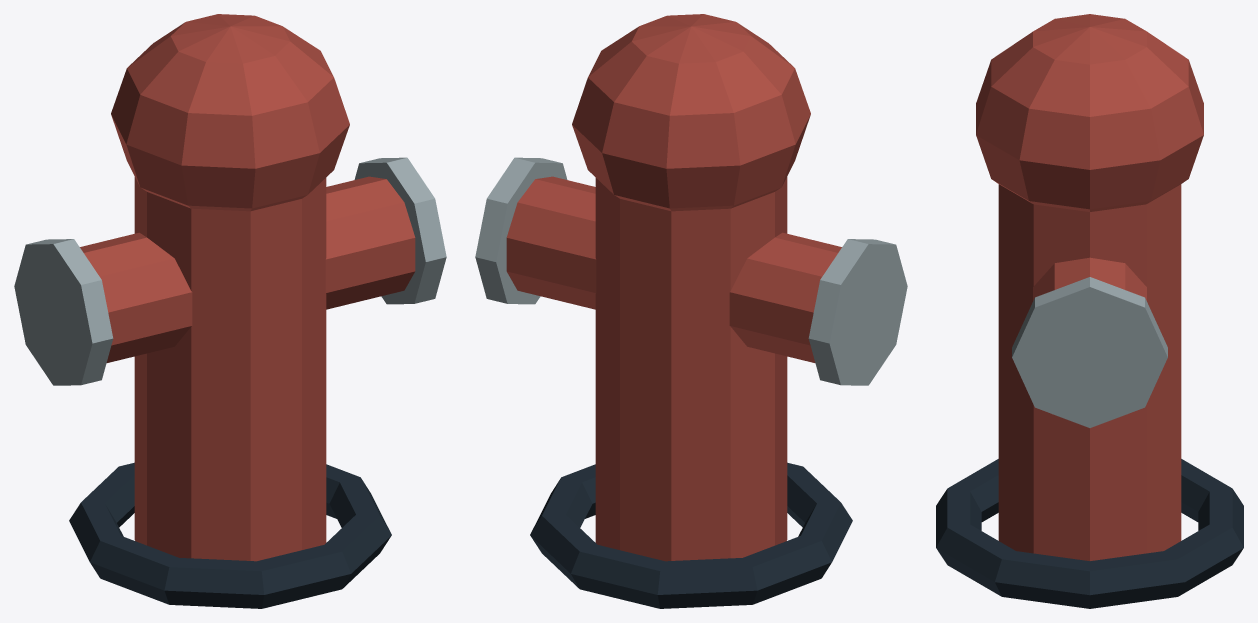
Rendered from props-hydrant.lod0.glb.
3 renders of one model, left to right at view 1: azimuth 30°, elevation 25°; view 2: azimuth 150°, elevation 25°; view 3: azimuth 270°, elevation 25°, orthographic.
Visible parts, largest first — view 1: props-hydrant__body; view 2: props-hydrant__body; view 3: props-hydrant__body.
Boxes of the visible parts, x1,y1,x2,y2 form: props-hydrant__body: (14, 14, 446, 608); props-hydrant__body: (475, 14, 907, 608); props-hydrant__body: (936, 14, 1243, 608).
Bounding box in the file's own units: 0.68 × 0.9546 × 0.5136.
